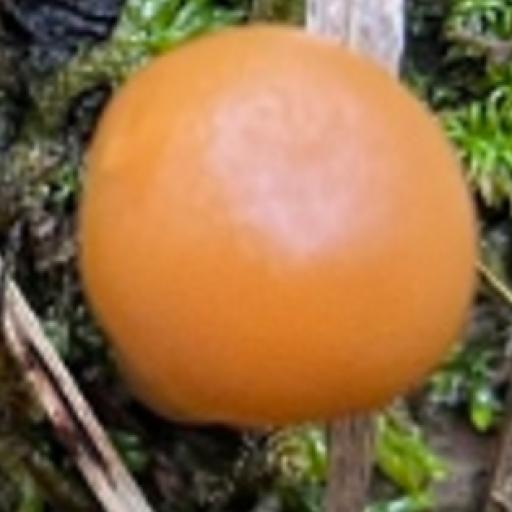mushroom: (77, 23, 474, 427)
